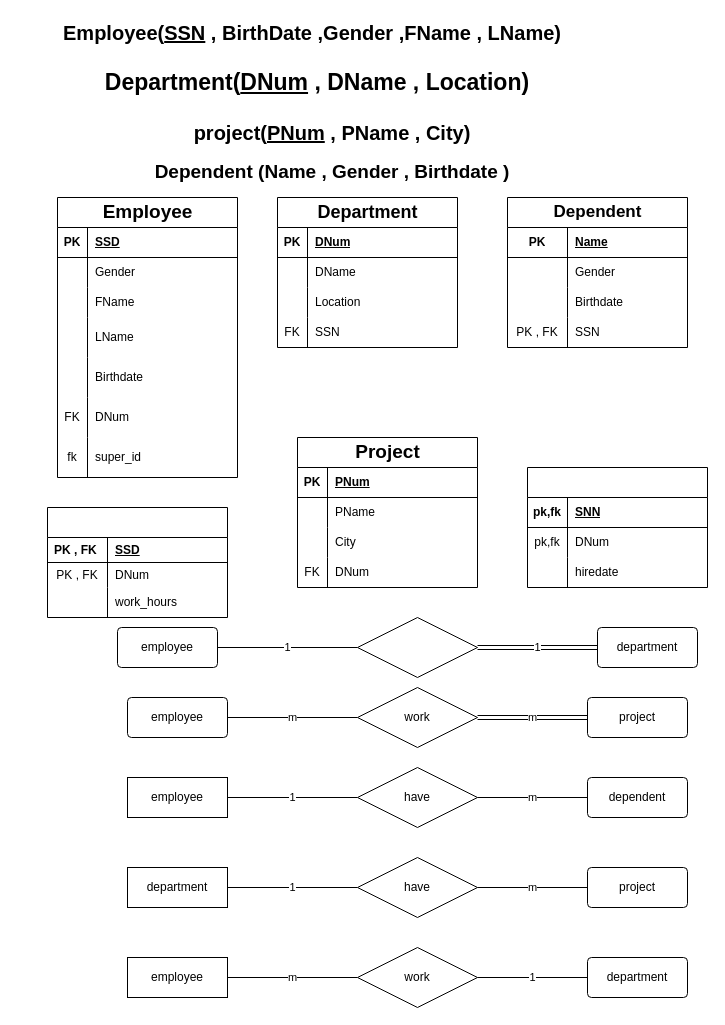
Some shapes in this 725 by 1025 pixel diagram are drawn without their labels. Each missing label, with the box of its shape:
employee_project: (46, 506, 228, 618)
manage: (356, 616, 478, 678)
manage_hiredate: (526, 466, 708, 588)
